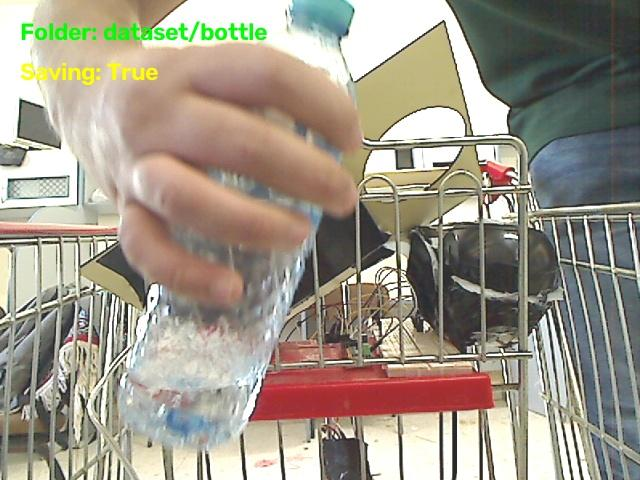Bottle: (120, 230, 310, 449), (210, 169, 321, 232), (281, 0, 352, 95)
can: (122, 8, 352, 450), (158, 48, 360, 162), (166, 98, 355, 217), (131, 153, 307, 264)
